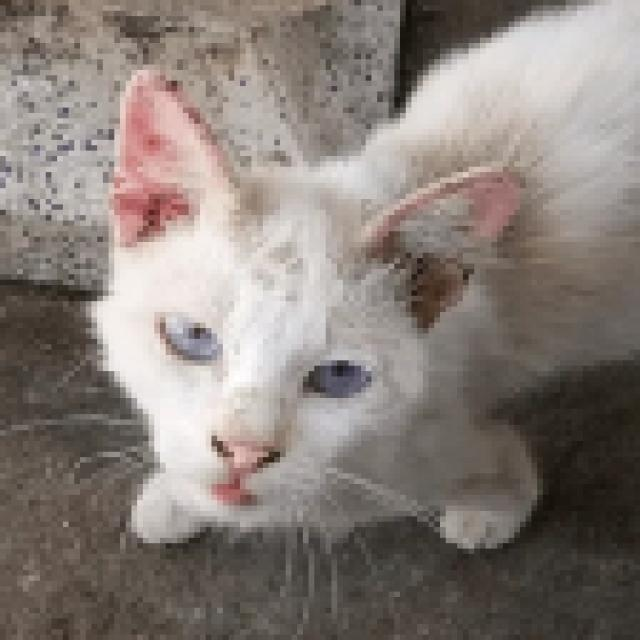Mange: (457, 252, 494, 296), (147, 61, 196, 94), (131, 130, 174, 158), (180, 98, 213, 130)
